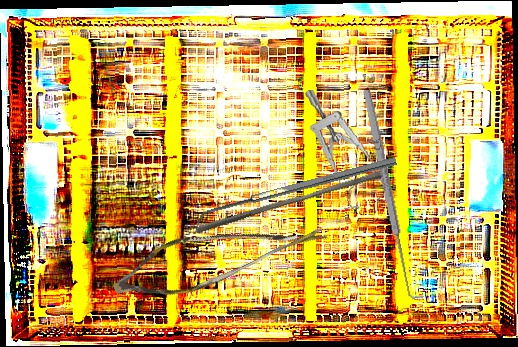Hook Surgical: (359, 87, 425, 301)
Micro Scissor: (106, 176, 333, 333)
Pusher: (194, 163, 383, 242)
Spatula Surgical: (194, 156, 400, 227)
Speculum: (303, 81, 393, 215)
